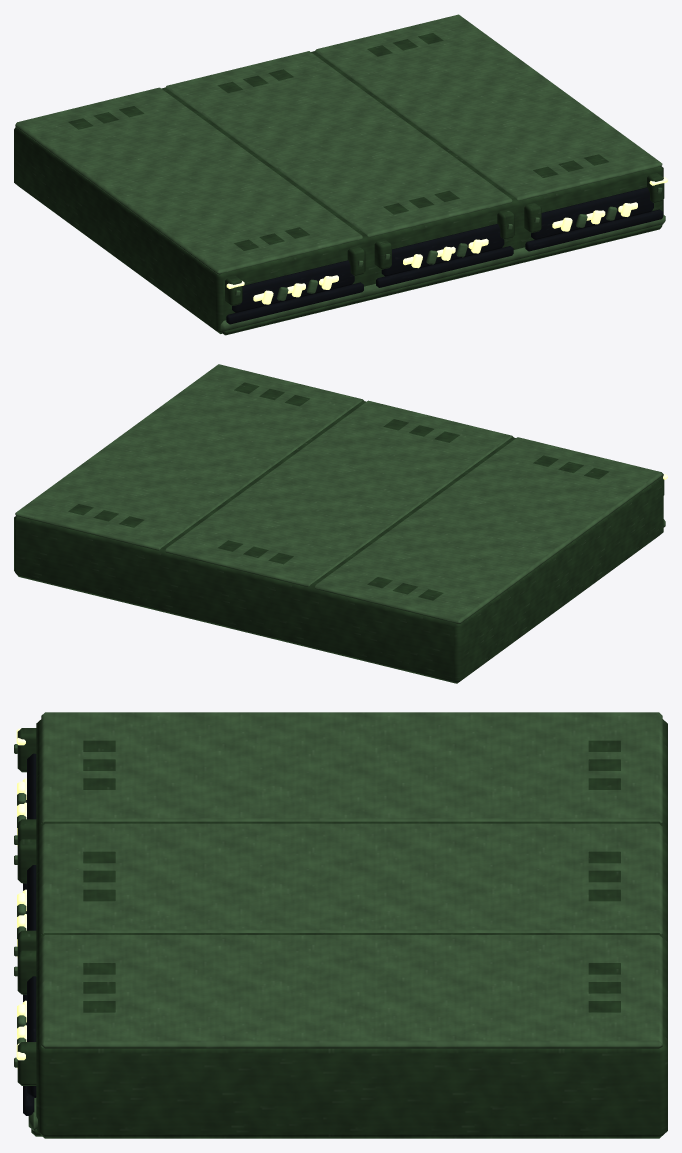
The model's file is machine_jungle_deck.glb.
3 views of the same model, one above another, from view 1: azimuth 30°, elevation 25°; view 2: azimuth 150°, elevation 25°; view 3: azimuth 270°, elevation 25° (orthographic). The views are drawn at different scales.
Parts seen in each view (by area): view 1: machine_jungle_deck - machine_jungle trim, machine_jungle_deck - machine_jungle panels, machine_jungle_deck - Recessed iron, machine_jungle_deck - machine_jungle accents; view 2: machine_jungle_deck - machine_jungle trim, machine_jungle_deck - machine_jungle panels; view 3: machine_jungle_deck - machine_jungle trim, machine_jungle_deck - machine_jungle panels, machine_jungle_deck - Recessed iron, machine_jungle_deck - machine_jungle accents.
Boxes of the visible parts, box(x1,y1,x2,y2) form: machine_jungle_deck - machine_jungle trim: box(15, 14, 665, 331); machine_jungle_deck - machine_jungle panels: box(14, 33, 664, 335); machine_jungle_deck - Recessed iron: box(226, 187, 663, 324); machine_jungle_deck - machine_jungle accents: box(226, 177, 667, 304); machine_jungle_deck - machine_jungle trim: box(15, 364, 665, 624); machine_jungle_deck - machine_jungle panels: box(14, 382, 664, 683); machine_jungle_deck - machine_jungle trim: box(14, 712, 662, 1130); machine_jungle_deck - machine_jungle panels: box(17, 719, 667, 1138); machine_jungle_deck - Recessed iron: box(23, 753, 36, 1115); machine_jungle_deck - machine_jungle accents: box(16, 728, 26, 1068).
Size of the model in its own units: 5.99 by 0.8325 by 4.97.
Materials: 4 (3 with a texture image).
